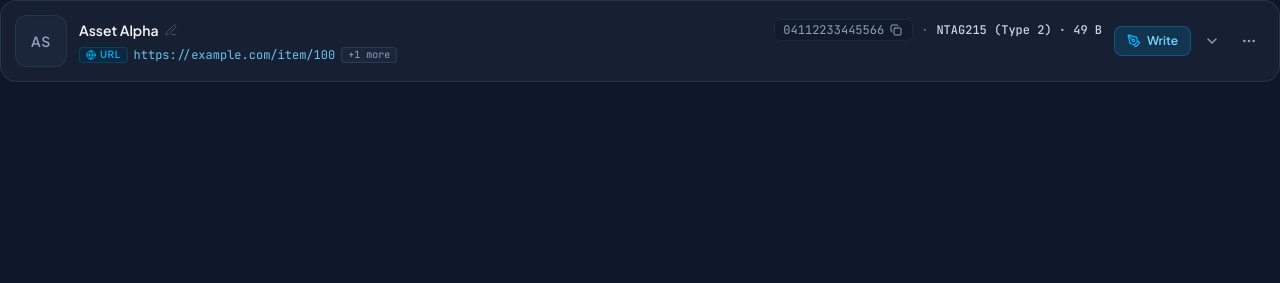
TagCardItem Component Rendering & Interaction Tests › Overflow Actions Menu (⋯) › closes overflow menu when Escape key is pressed
Click the button with test id "tag-overflow-menu-button" at (1249, 41), box top-left (1233, 25), bottom-right (1265, 57)
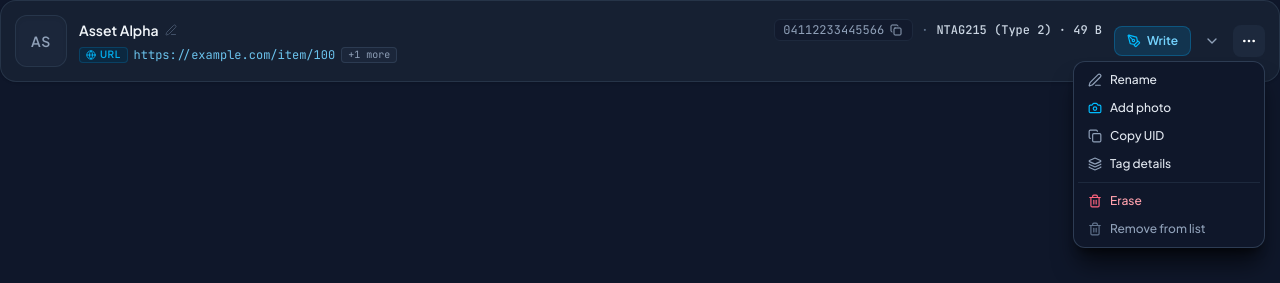
Check: the menu with test id "tag-overflow-menu" is shown, box top-left (1073, 61), bottom-right (1265, 248)
Press Escape
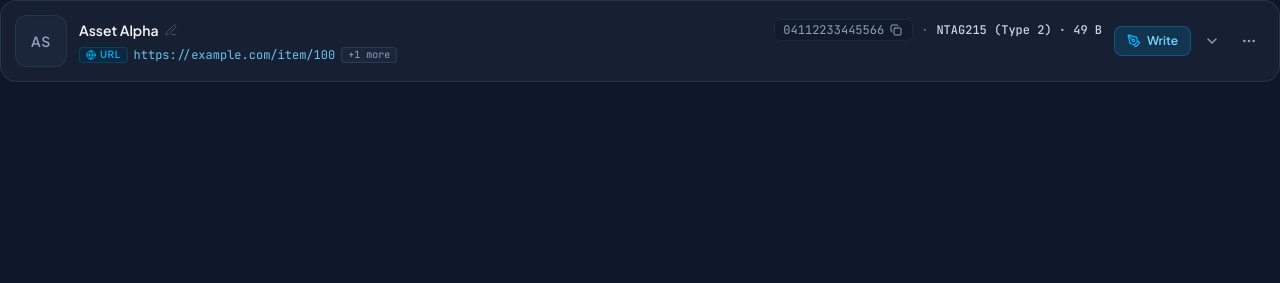
Check: the menu with test id "tag-overflow-menu" is gone
